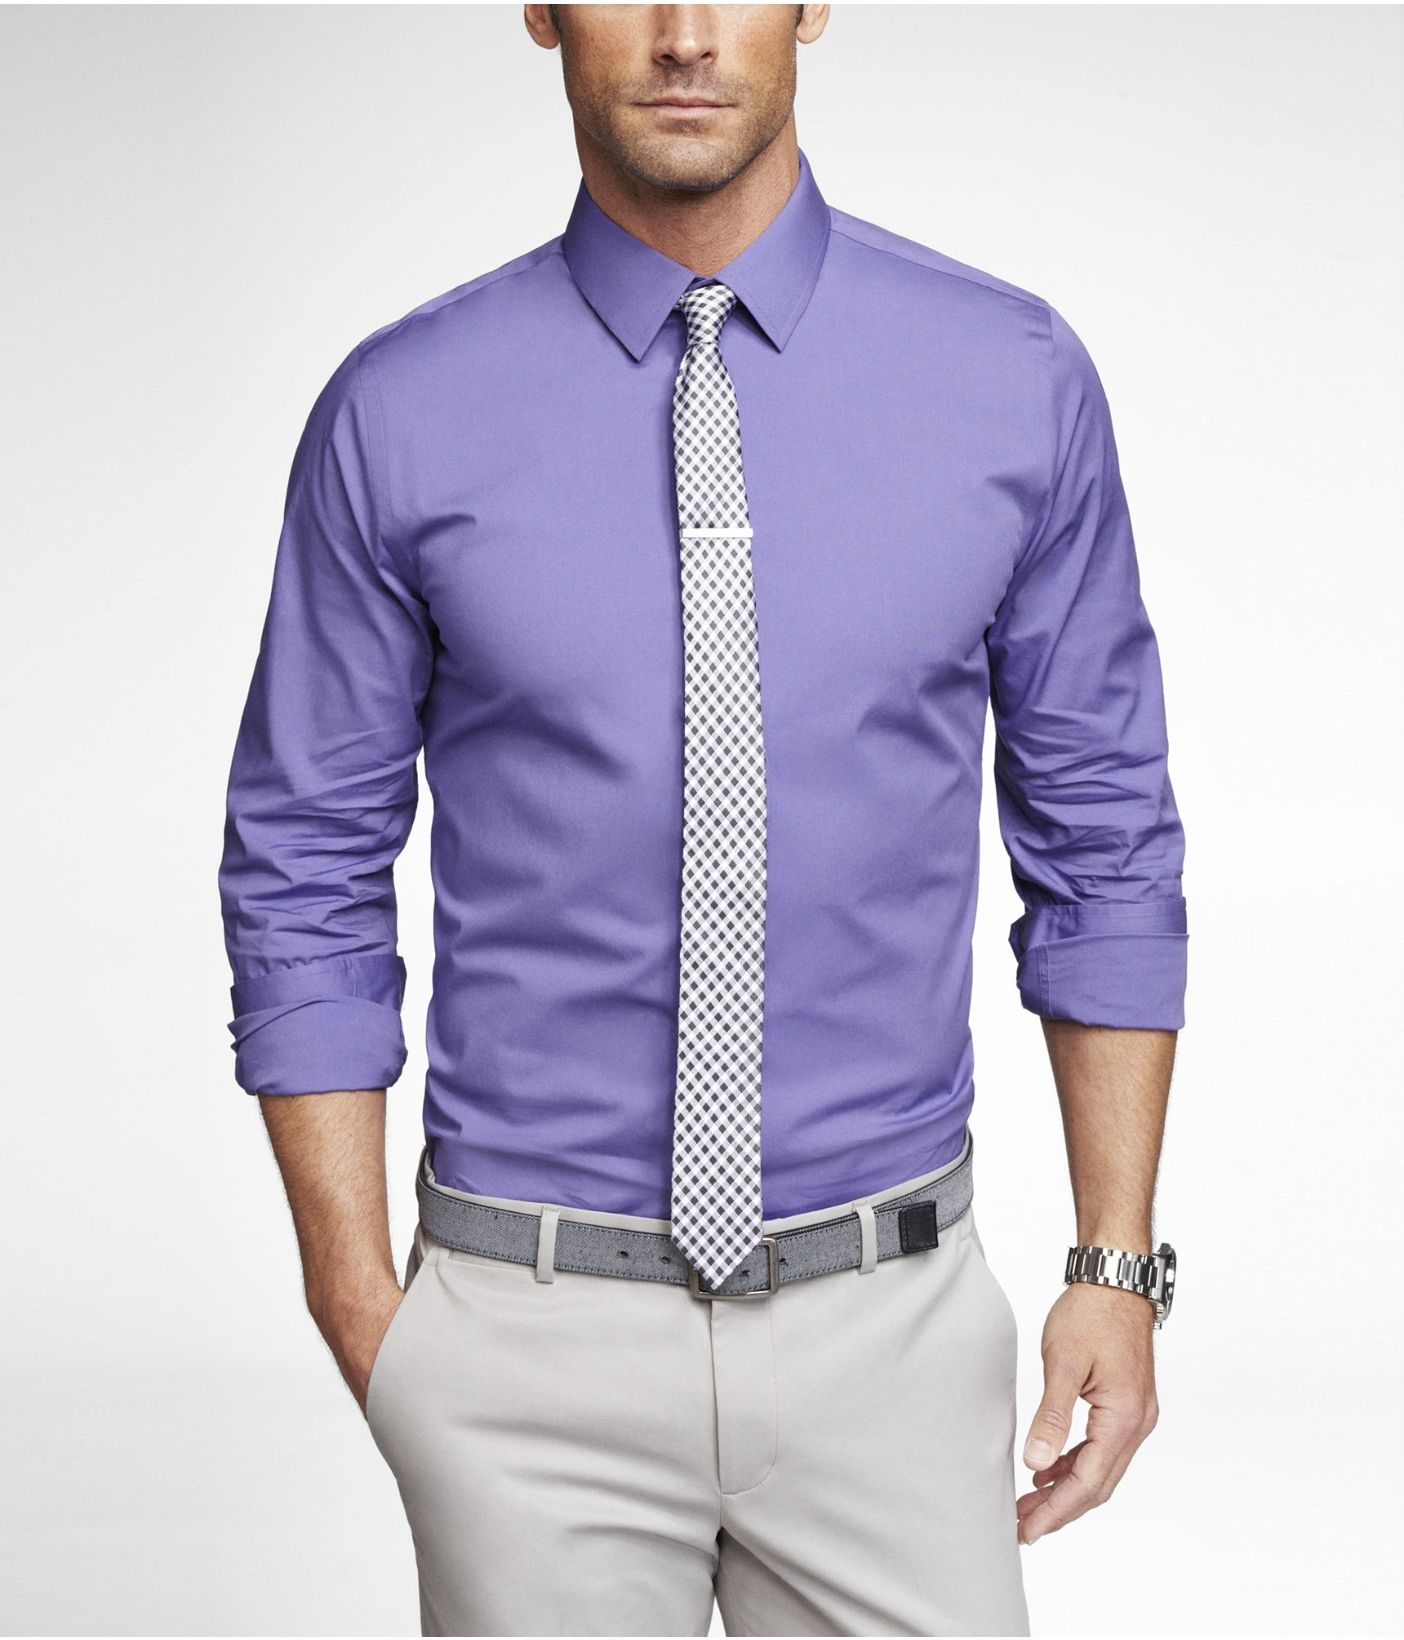F_belt: (373, 1174, 1004, 1324)
F_shirt: (219, 194, 1201, 1220)
F_tie: (628, 290, 813, 1247)
